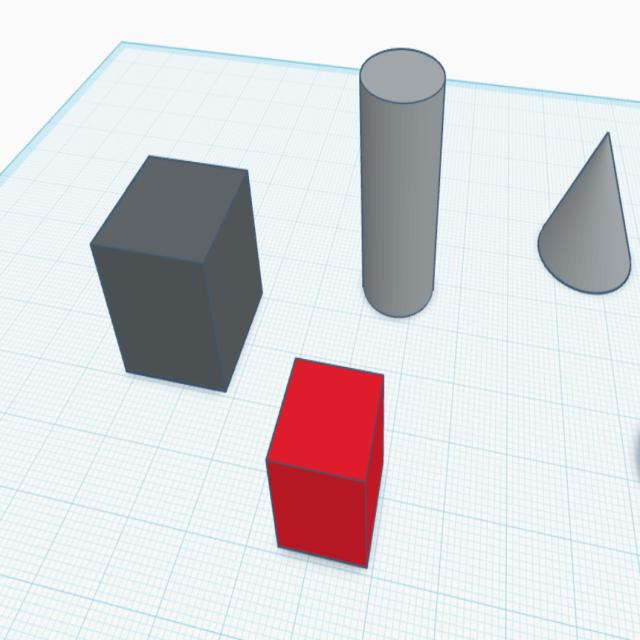cone: (534, 127, 634, 301)
cube: (85, 147, 268, 398), (264, 351, 388, 572)
